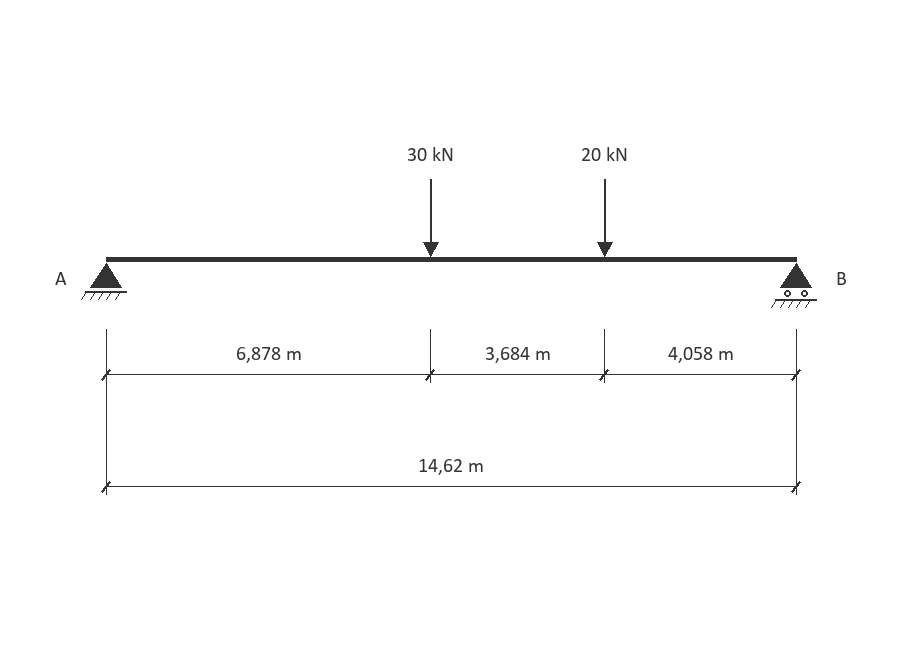pin_support: (81, 263, 127, 300)
point_load: (423, 179, 439, 257), (597, 179, 613, 257)
roller_support: (771, 263, 817, 308)
